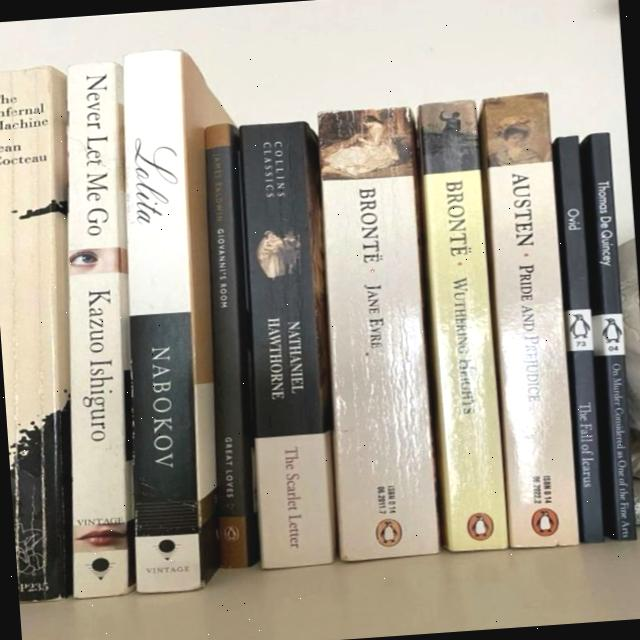book: (104, 62, 228, 588), (317, 157, 438, 560), (229, 127, 338, 569), (0, 64, 92, 574), (58, 70, 141, 590), (481, 105, 576, 548), (415, 102, 506, 550), (190, 130, 266, 566), (576, 135, 637, 540), (551, 135, 609, 538)
